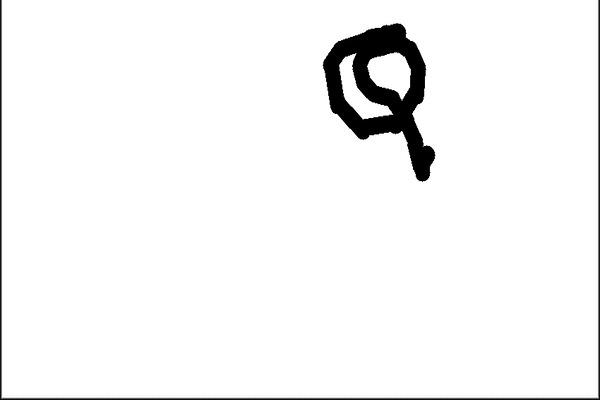Q: (310, 13, 438, 191)
